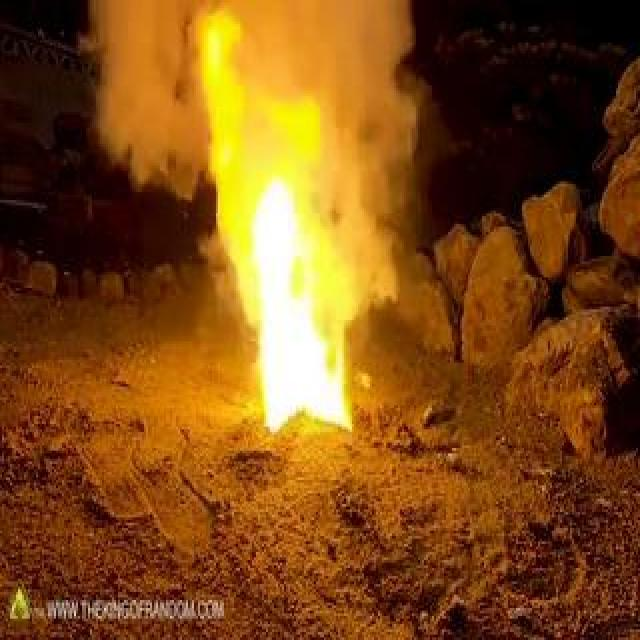Fire: (130, 158, 319, 328)
